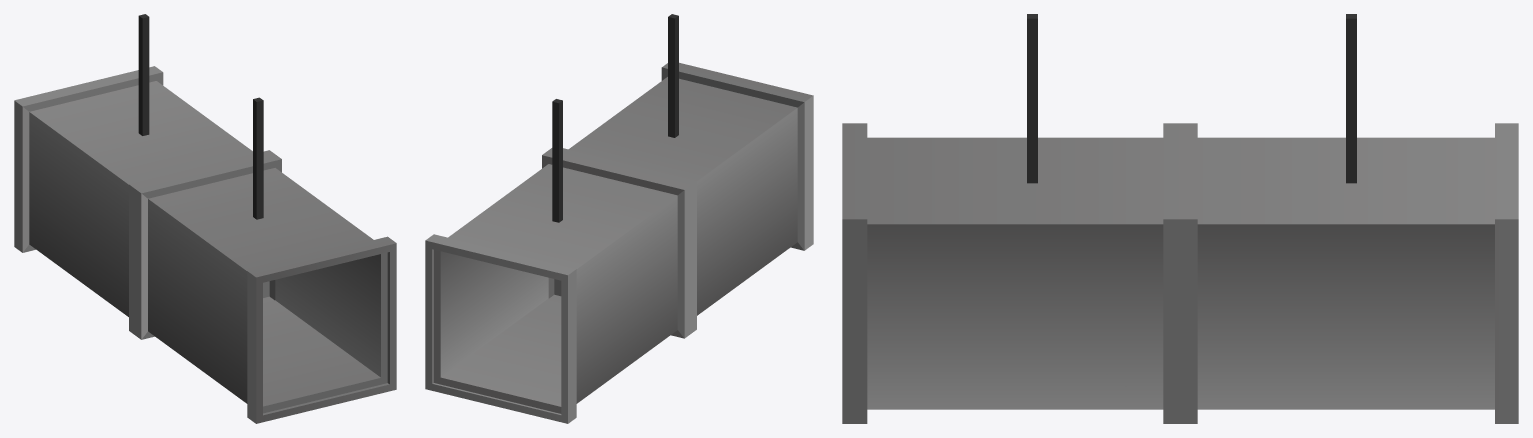
The model's file is B01_Conduit_droit.fbx.
The picture shows the model from 3 angles, left to right: view 1: azimuth 30°, elevation 25°; view 2: azimuth 150°, elevation 25°; view 3: azimuth 270°, elevation 25°; orthographic projection. The views are drawn at different scales.
Visible parts, largest first — view 1: B01_Conduit_droit; view 2: B01_Conduit_droit; view 3: B01_Conduit_droit.
Boxes of the visible parts, box(x1,y1,x2,y2) form: B01_Conduit_droit: box(14, 14, 396, 423); B01_Conduit_droit: box(425, 14, 813, 423); B01_Conduit_droit: box(842, 14, 1518, 423).
Size of the model in its own units: 42.53 by 74.38 by 127.
